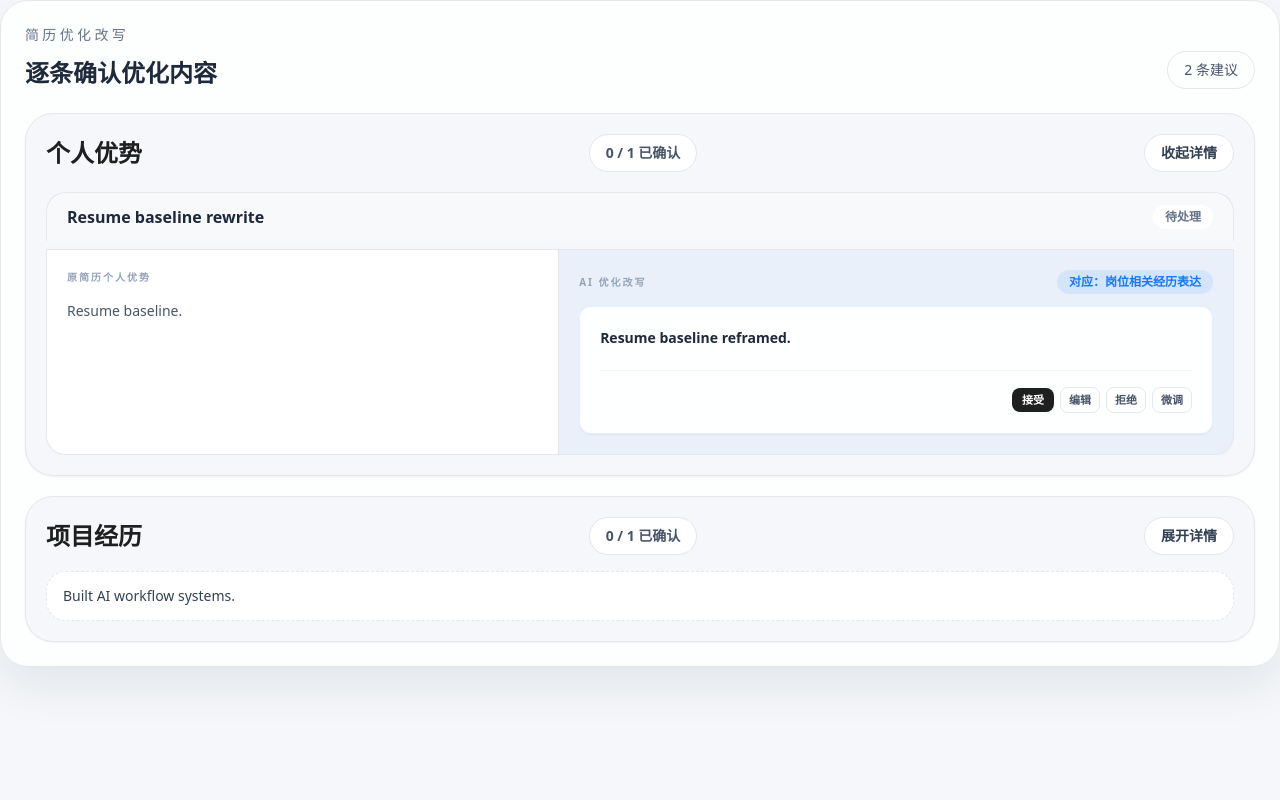
SuggestionList › renders rewrite suggestions with expandable cards and Chinese controls
Expected: the heading "Resume baseline rewrite" is shown, [67,206,264,228]
Expected: the text "简历优化改写" is shown, [25,25,129,44]
Click the text "收起详情".
click(1189, 153)  # box [1144,134,1234,172]
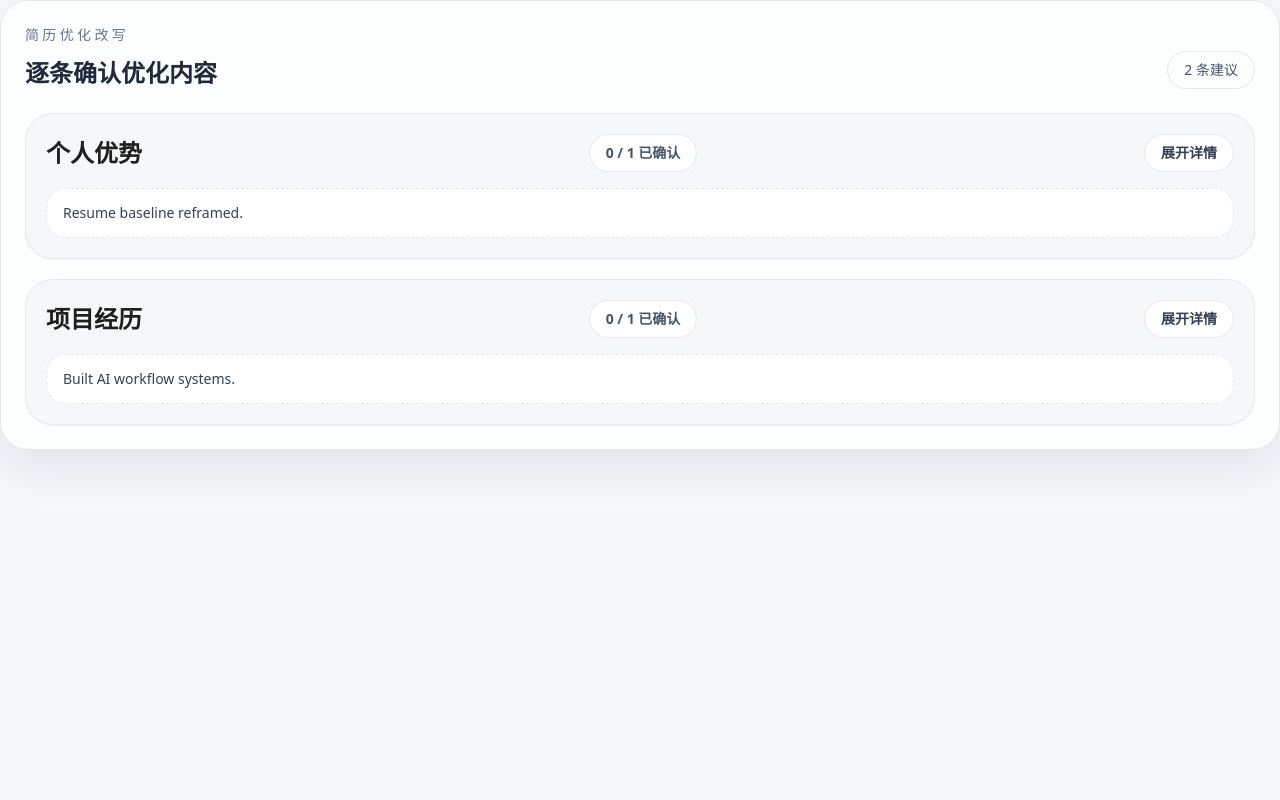
Expected: the 1st text "展开详情" is shown, [1144,134,1234,172]
Expected: the text "原简历个人优势" is gone
